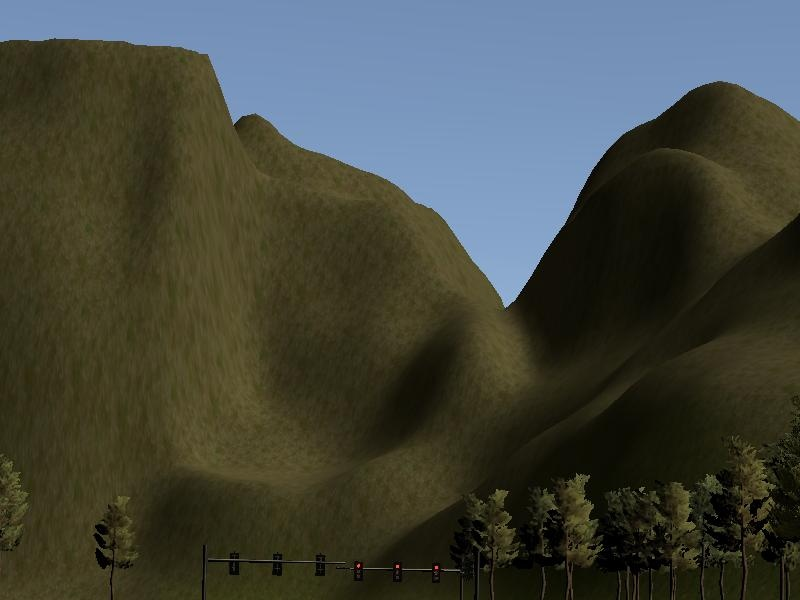red: (428, 559, 445, 590), (351, 559, 368, 587), (389, 559, 406, 587)
